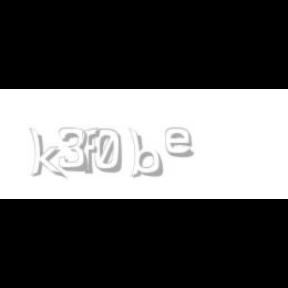0: (94, 128, 125, 174)
3: (58, 128, 89, 172)
b: (128, 128, 166, 178)
e: (166, 128, 198, 158)
f: (80, 128, 104, 174)
k: (29, 128, 67, 180)
